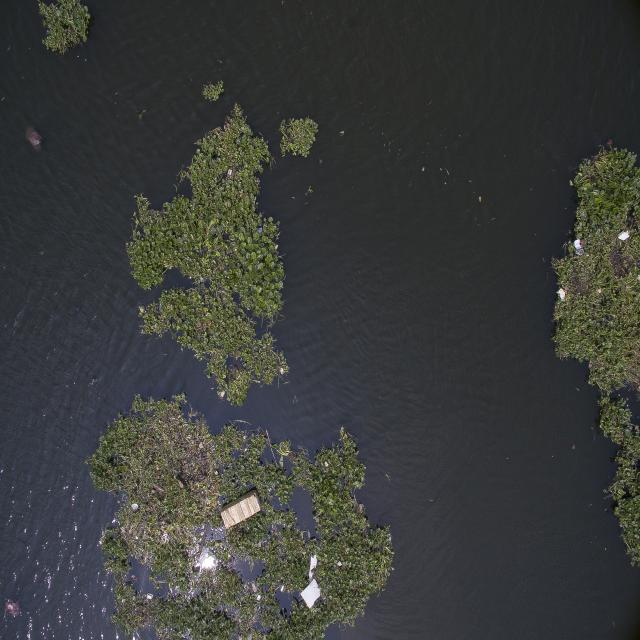plastic: (217, 494, 266, 535), (301, 572, 331, 623), (553, 286, 573, 304), (619, 223, 633, 248), (311, 551, 321, 581), (574, 235, 587, 257)
